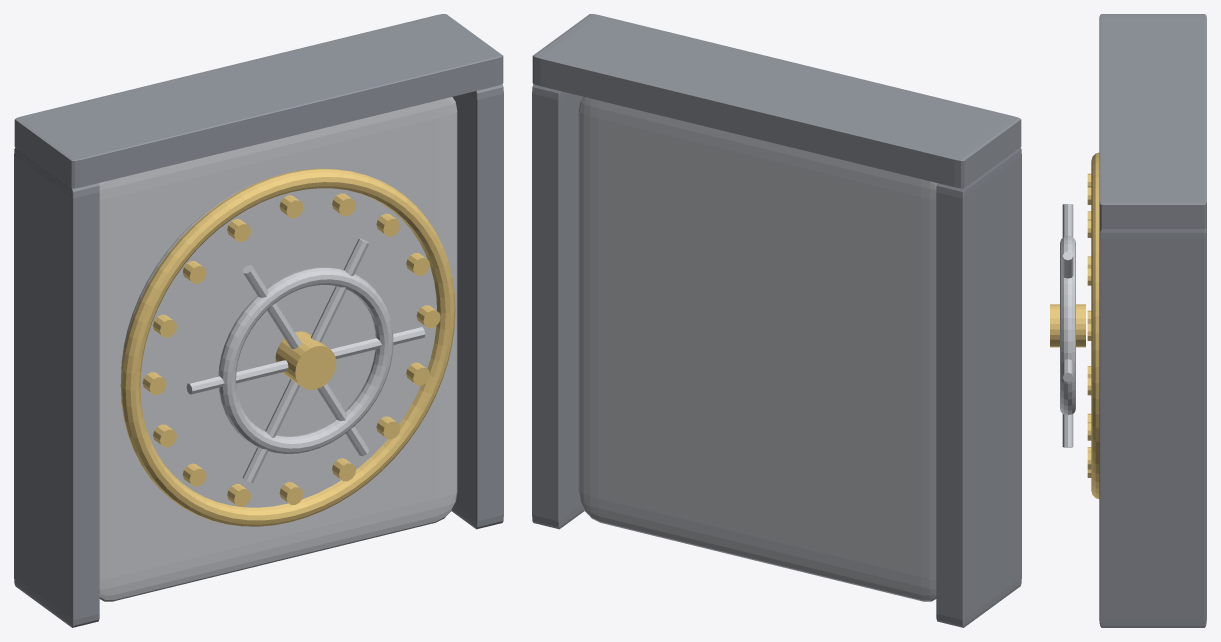
The model's file is vault_door.glb.
3 renders of one model, left to right at view 1: azimuth 30°, elevation 25°; view 2: azimuth 150°, elevation 25°; view 3: azimuth 270°, elevation 25°, orthographic. The views are drawn at different scales.
Visible parts, largest first — view 1: Slab, Boss, Frame.002, Frame, Frame.001, Rim, Ring, Hub, Spoke.001, Spoke.003, Spoke, Spoke.002 (+2 smaller); view 2: Slab, Frame.002, Frame, Frame.001; view 3: Frame.001, Frame.002, Rim, Ring, Hub, Spoke.005, Spoke.002, Spoke.001, Spoke.
Part boxes in pixels (box(x1,y1,x2,y2)): Slab: box(98, 97, 457, 601); Boss: box(121, 180, 436, 507); Frame.002: box(14, 14, 503, 188); Frame: box(14, 147, 99, 627); Frame.001: box(451, 84, 503, 529); Rim: box(120, 168, 455, 526); Ring: box(218, 267, 393, 453); Hub: box(275, 331, 336, 389); Spoke.001: box(282, 238, 369, 401); Spoke.003: box(186, 347, 346, 394); Spoke: box(266, 327, 425, 374); Spoke.002: box(242, 265, 329, 392); Slab: box(578, 97, 937, 601); Frame.002: box(532, 14, 1021, 188); Frame: box(936, 147, 1021, 627); Frame.001: box(532, 84, 584, 529); Frame.001: box(1099, 226, 1206, 627); Frame.002: box(1099, 14, 1206, 229); Rim: box(1091, 152, 1099, 498); Ring: box(1060, 235, 1075, 414); Hub: box(1050, 304, 1085, 347); Spoke.005: box(1062, 414, 1073, 447); Spoke.002: box(1062, 204, 1073, 237); Spoke.001: box(1062, 251, 1073, 278); Spoke: box(1062, 359, 1073, 381).
Size of the model in its own units: 2.52 by 2.61 by 0.875.
